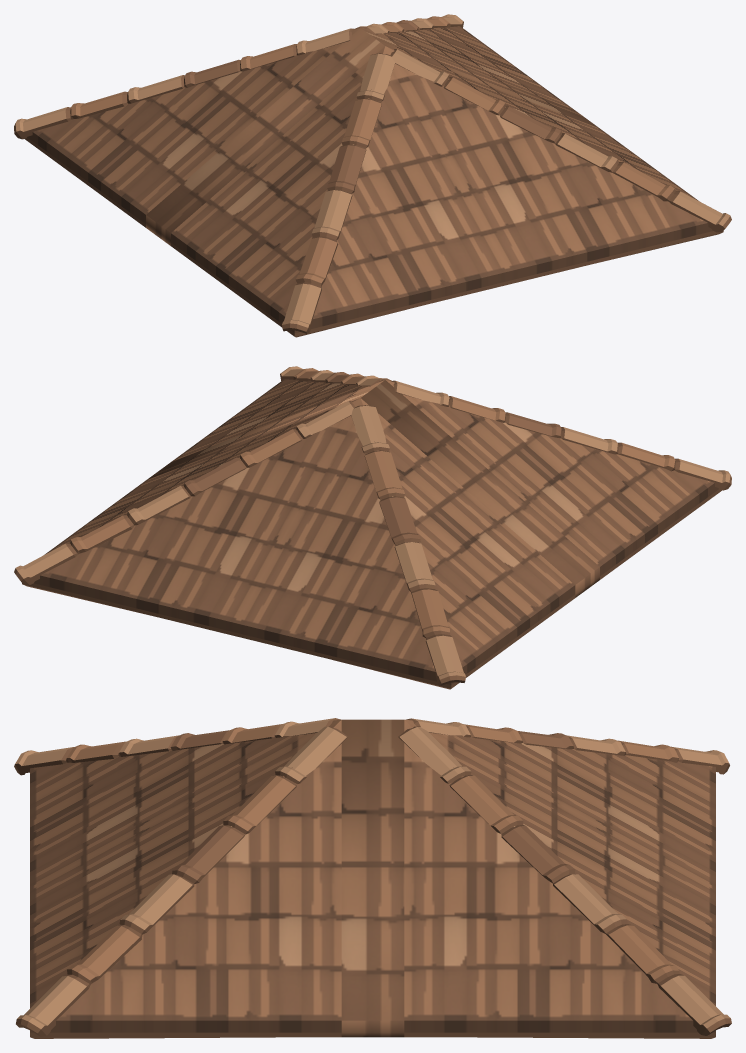
Rendered from SM_Bld_Villa_Roof_01_edit.fbx.
3 renders of one model, top to bottom at view 1: azimuth 30°, elevation 25°; view 2: azimuth 150°, elevation 25°; view 3: azimuth 270°, elevation 25°, orthographic. The views are drawn at different scales.
Visible parts, largest first — view 1: SM_Bld_Villa_Roof_Corner_Out_01.004; view 2: SM_Bld_Villa_Roof_Corner_Out_01.004; view 3: SM_Bld_Villa_Roof_Corner_Out_01.004.
Boxes of the visible parts, bbox=[...] form: SM_Bld_Villa_Roof_Corner_Out_01.004: bbox=[14, 14, 731, 337]; SM_Bld_Villa_Roof_Corner_Out_01.004: bbox=[14, 366, 731, 689]; SM_Bld_Villa_Roof_Corner_Out_01.004: bbox=[14, 718, 731, 1038].
Bounding box in the file's own units: 526 × 168 × 576.
